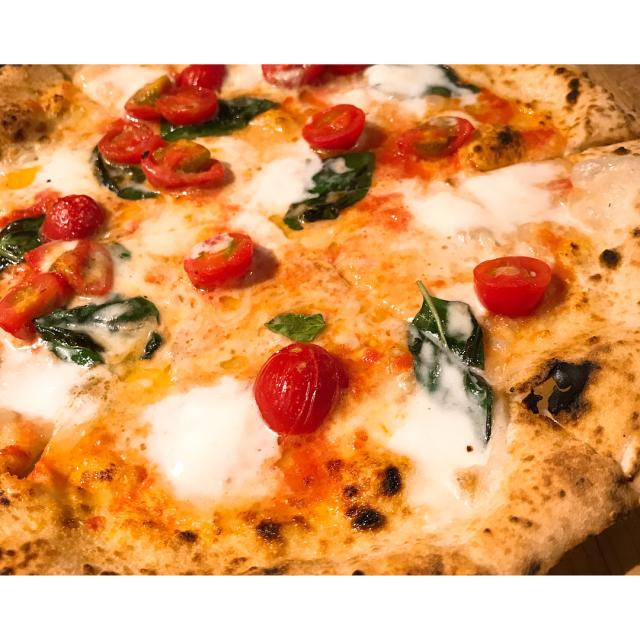basil: (393, 274, 494, 444), (24, 292, 170, 371), (280, 151, 380, 231), (153, 95, 273, 139), (81, 145, 159, 205), (1, 211, 50, 271), (414, 60, 481, 103), (264, 304, 330, 347), (103, 229, 135, 263)
pizza: (0, 65, 640, 574)
tomatoes: (252, 338, 346, 438), (467, 256, 561, 321), (125, 65, 226, 122), (179, 229, 255, 293), (26, 243, 116, 296), (144, 137, 223, 194), (0, 272, 66, 340), (399, 112, 476, 163), (298, 97, 366, 153), (41, 190, 106, 246), (99, 114, 154, 171), (249, 62, 373, 86)
